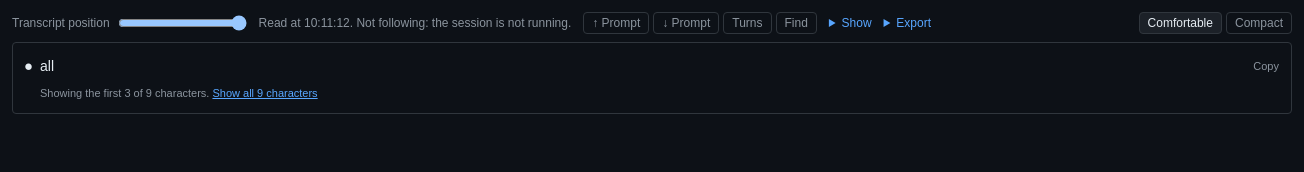
the desktop transcript › fetches a clipped block's full text from this transcript
Click the button "Show all 9 characters" at (265, 94), box [212,86,318,102]
Wait 120 ms
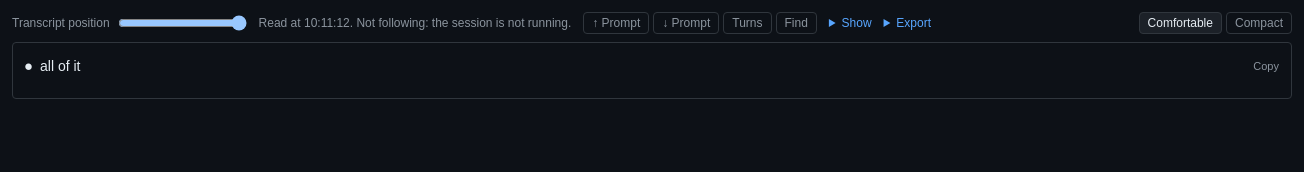
Check: the text "all of it" is shown, box [40,58,80,74]
